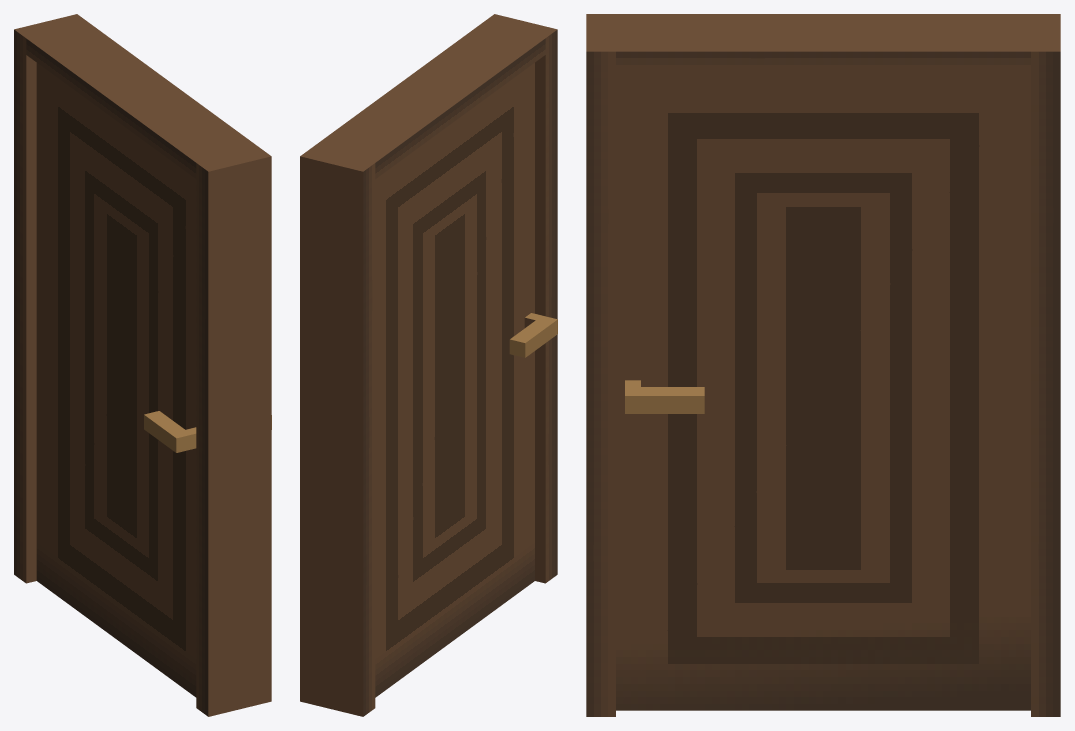
Rendered from drzwi-drewniane.gltf.
3 views of the same model, side by side, from view 1: azimuth 30°, elevation 25°; view 2: azimuth 150°, elevation 25°; view 3: azimuth 270°, elevation 25° (orthographic). The views are drawn at different scales.
Visible parts, largest first — view 1: cube (×5); view 2: cube (×5); view 3: cube (×5).
Boxes of the visible parts, x1=… form: cube (×5): x1=14, y1=14, x2=271, y2=716; cube (×5): x1=300, y1=14, x2=557, y2=716; cube (×5): x1=586, y1=14, x2=1060, y2=716.
Bounding box in the file's own units: 0.2836 × 1.55 × 1.
Materials: 1 (1 with a texture image).
